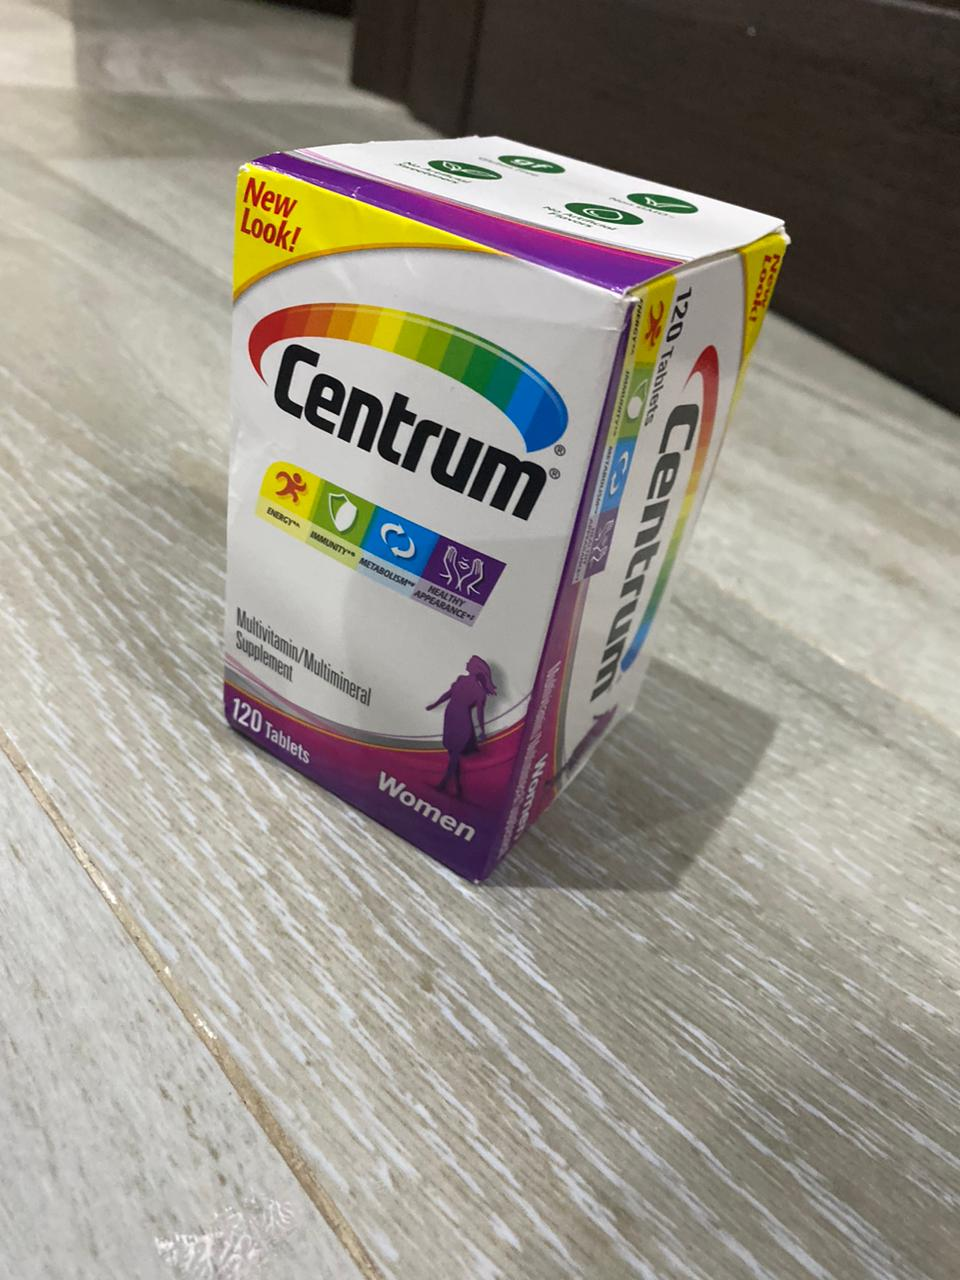Centrum: (210, 123, 799, 893)
